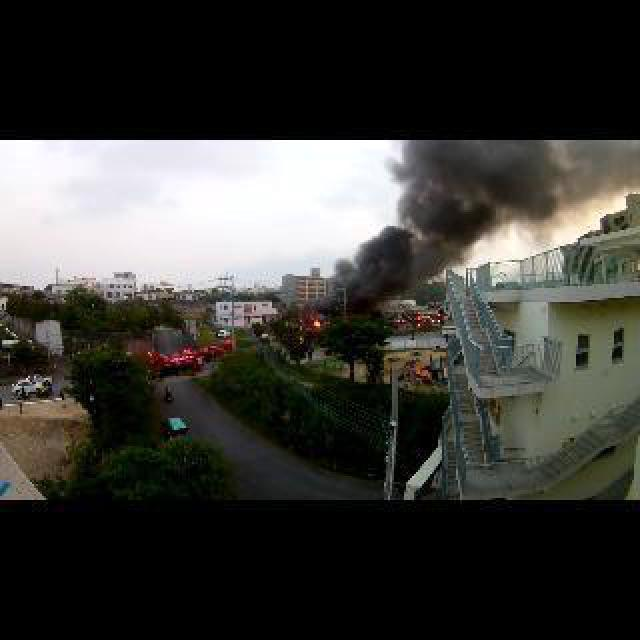Fire: (308, 316, 327, 332)
Smoke: (326, 134, 624, 300)
